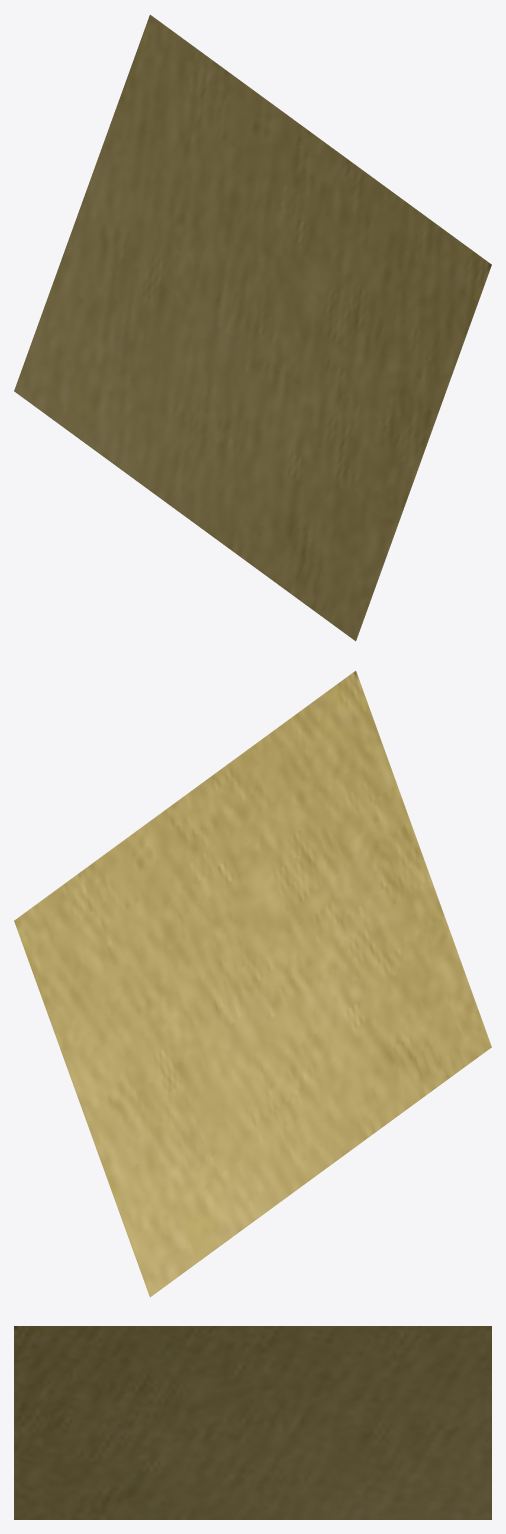
3 renders of one model, top to bottom at view 1: azimuth 30°, elevation 25°; view 2: azimuth 150°, elevation 25°; view 3: azimuth 270°, elevation 25°, orthographic. The views are drawn at different scales.
Visible parts, largest first — view 1: 4_base__material_5_37_8; view 2: 4_base__material_5_37_8; view 3: 4_base__material_5_37_8.
Part boxes in pixels (x1,y1,x2,y2): 4_base__material_5_37_8: [14, 14, 491, 641]; 4_base__material_5_37_8: [14, 670, 491, 1297]; 4_base__material_5_37_8: [14, 1326, 491, 1519].
Bounding box in the file's own units: 0.000159 × 0.000383 × 0.000691.
Materials: 1 (1 with a texture image).
